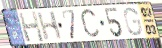5: (103, 6, 124, 39)
7: (61, 9, 76, 41)
C: (79, 6, 102, 41)
G: (122, 7, 144, 37)
H: (17, 10, 46, 44), (36, 10, 63, 42)
